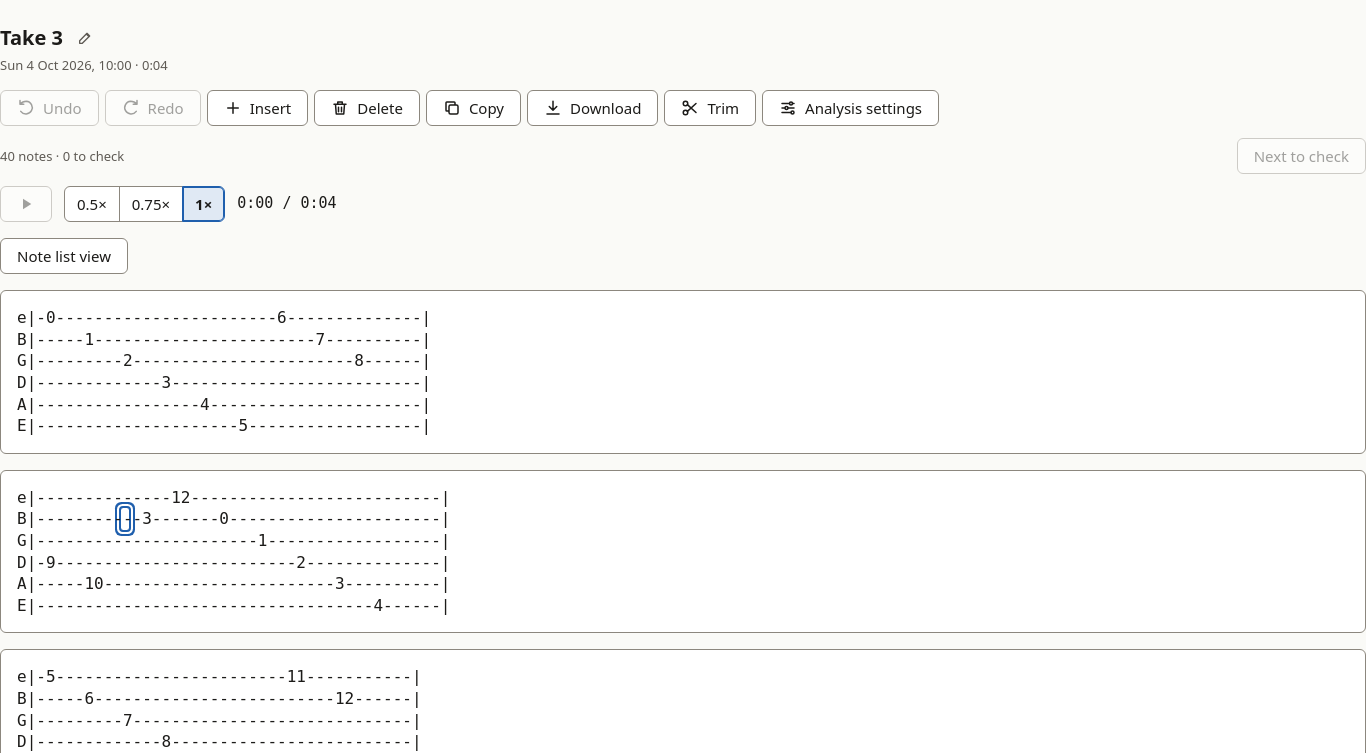
Test case: Tab screen tab area, header and selection › the edit popover › a selection moved while it was open gets focus when it closes
Double-click the button named "Note 12: B string, fret 3, D4, at 4.25 seconds" at (125, 519), box [121, 508, 129, 530]
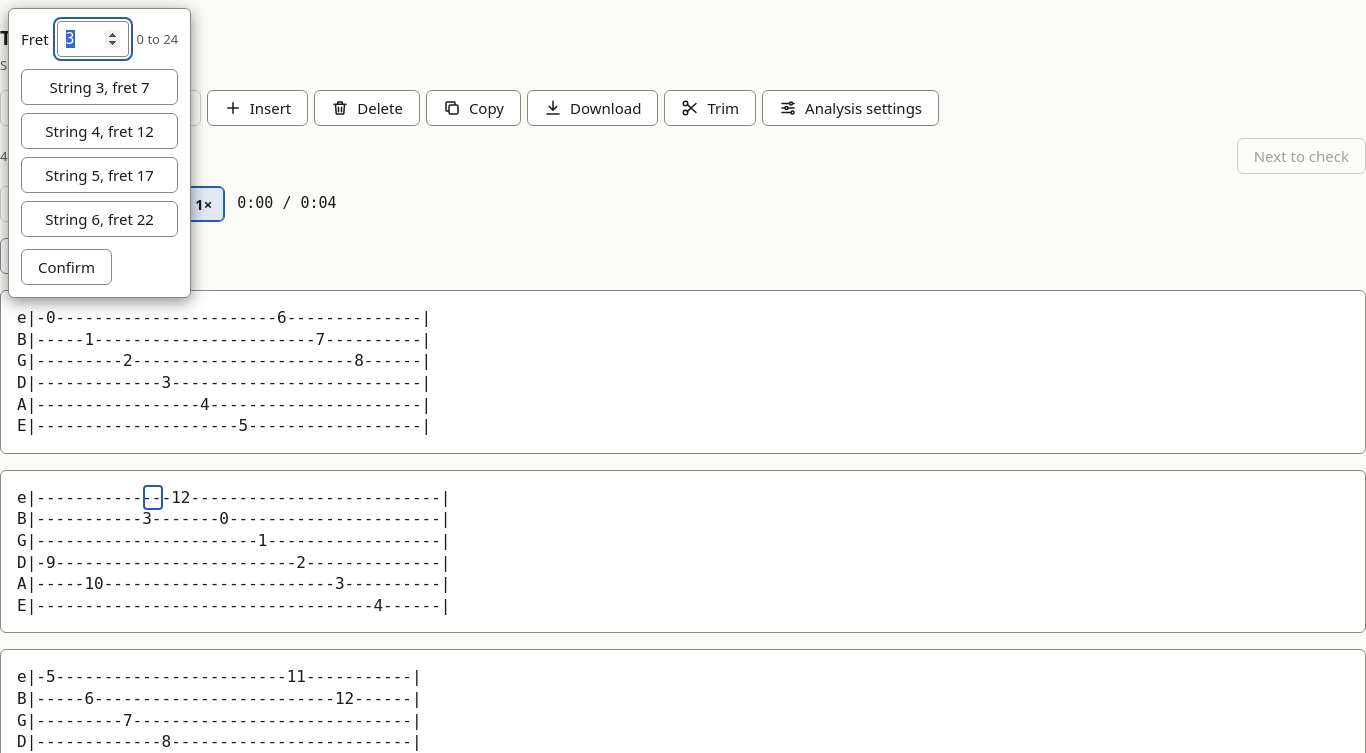
Press Escape in the number field labelled "Fret", box [57, 21, 129, 57]
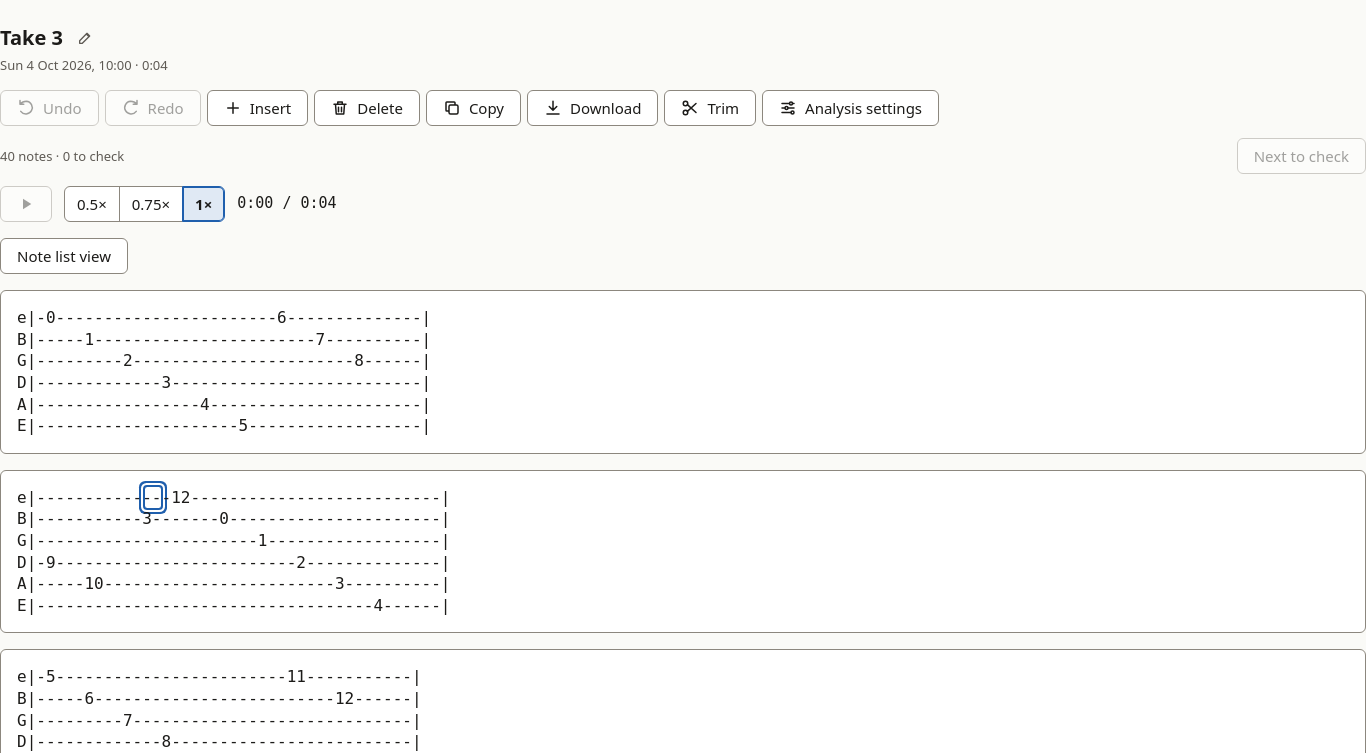
Now the dialog is gone
